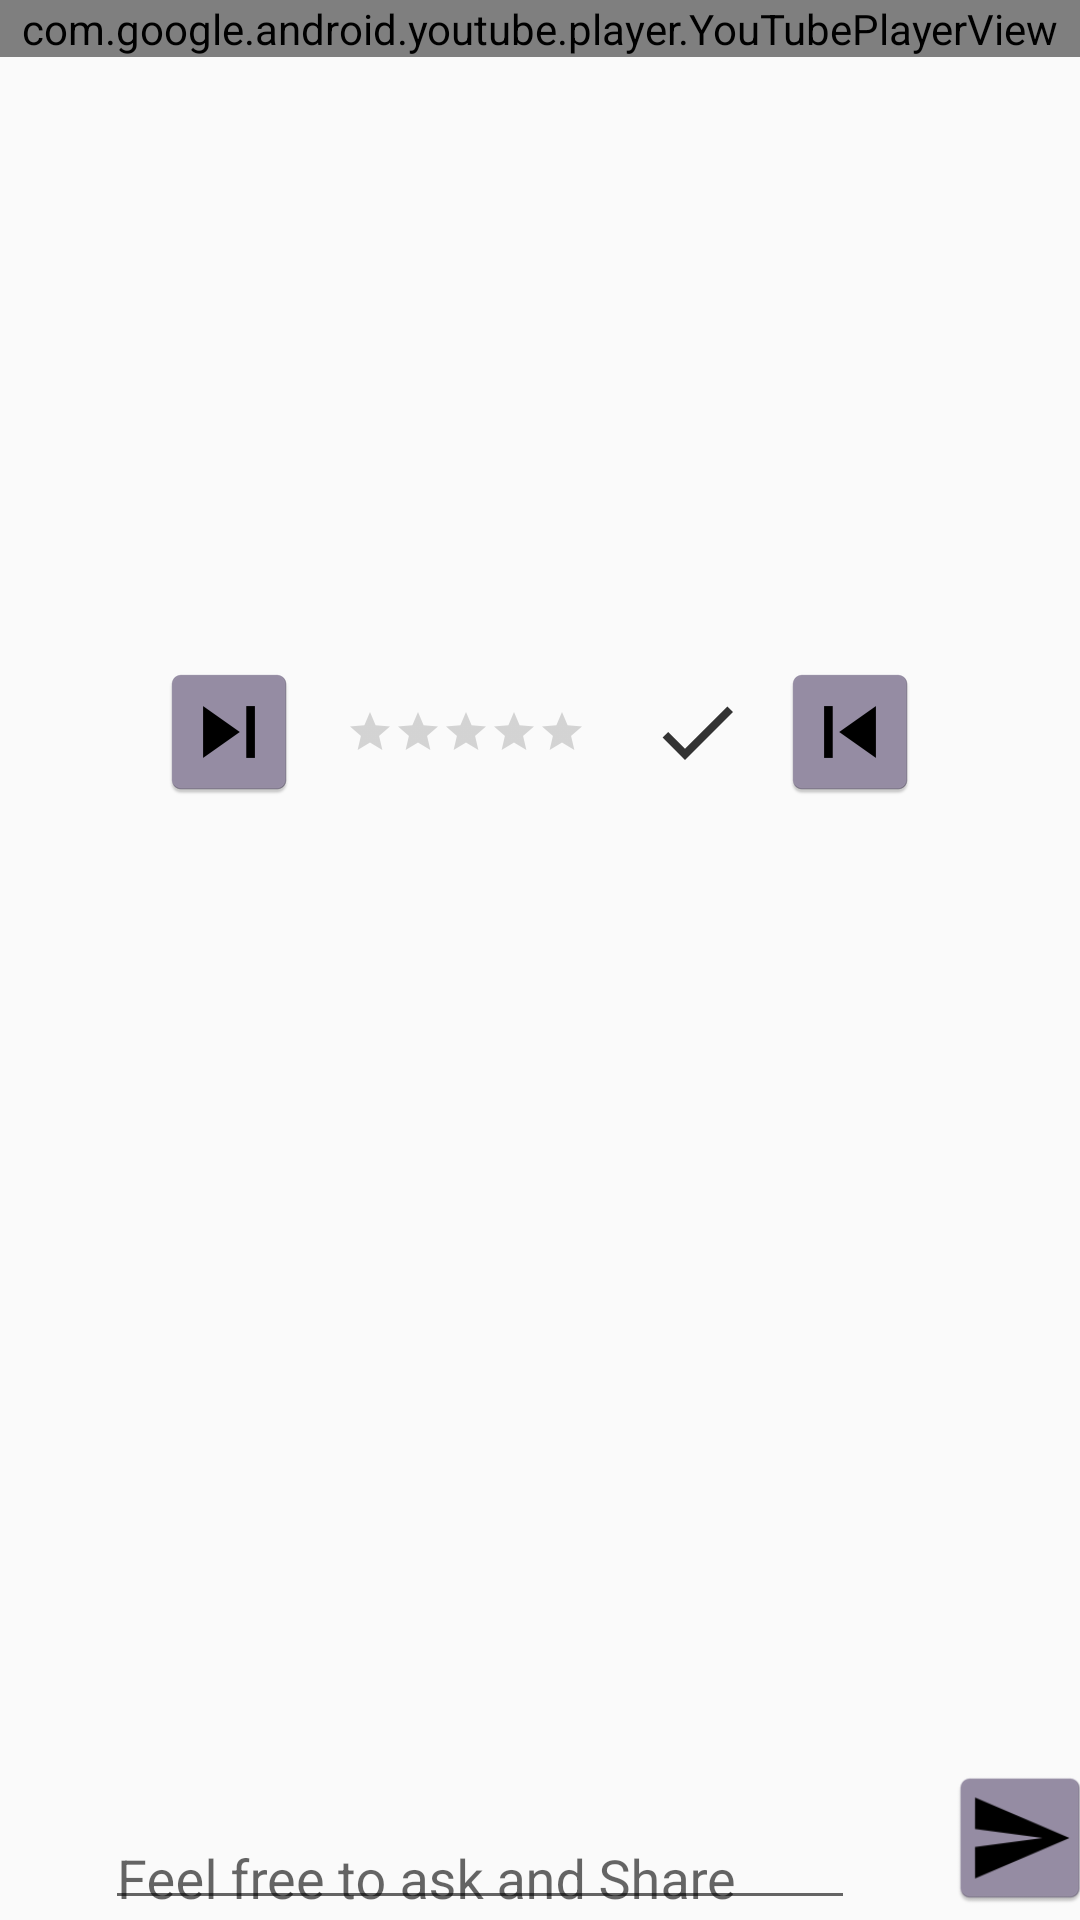

Icons on this 1080px x 1920px Android screen, each with its box as (x1, y1, x2, y2):
seek: (171, 675, 287, 793)
seekback: (792, 675, 908, 793)
send forum: (960, 1778, 1080, 1901)
tick: (662, 706, 733, 760)
